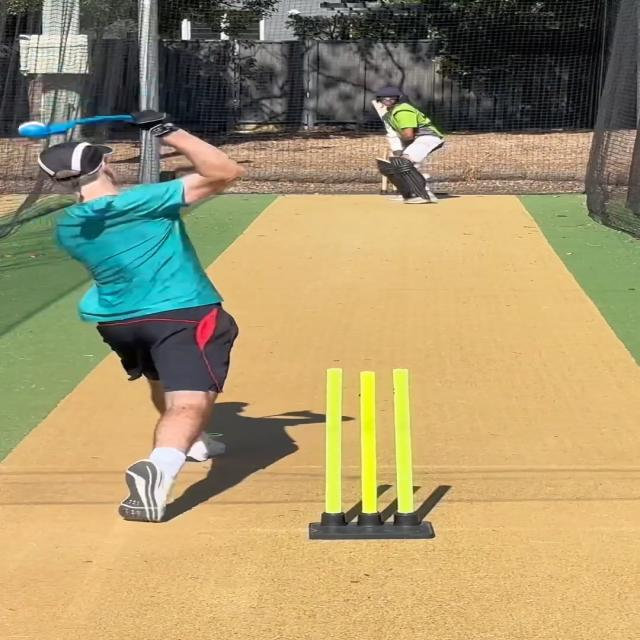stump: (307, 364, 430, 540)
